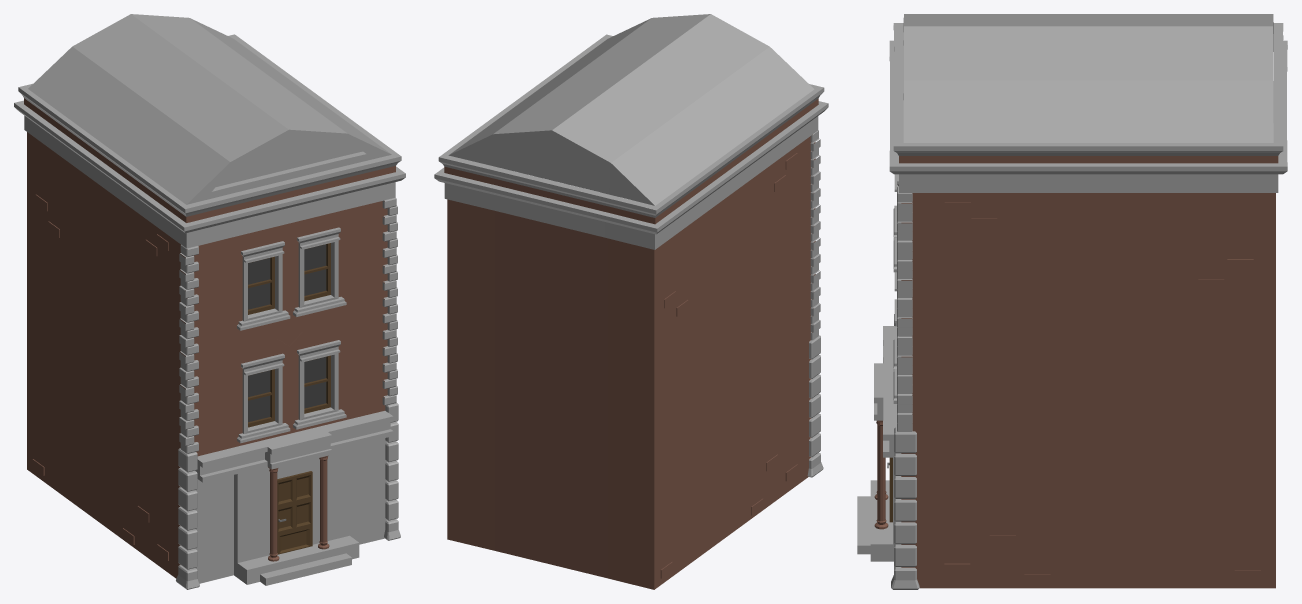
Rendered from eu_town_a.glb.
3 renders of one model, left to right at view 1: azimuth 30°, elevation 25°; view 2: azimuth 150°, elevation 25°; view 3: azimuth 270°, elevation 25°, orthographic. The views are drawn at different scales.
Parts seen in each view (by area): view 1: Building3_Small; view 2: Building3_Small; view 3: Building3_Small.
Boxes of the visible parts, x1,y1,x2,y2 form: Building3_Small: (14,14,405,589); Building3_Small: (434,14,828,589); Building3_Small: (857,14,1287,589).
Bounding box in the file's own units: 3.05 × 5.68 × 4.4.
